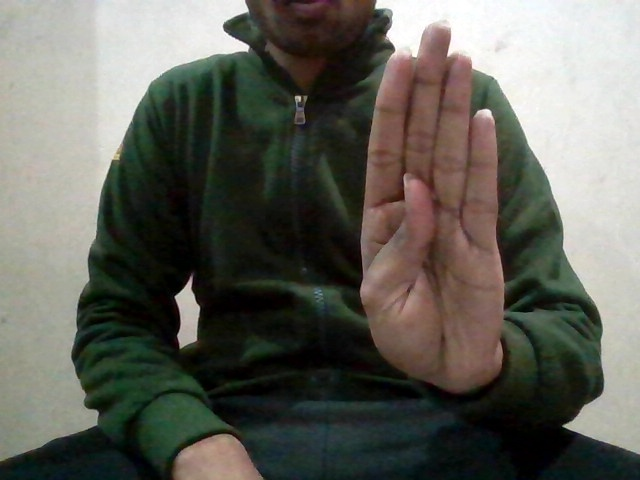B: (357, 15, 511, 398)
